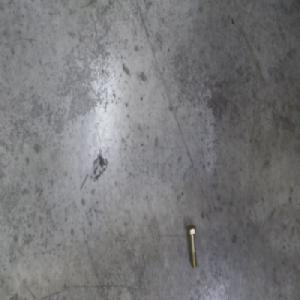Bolt: (186, 223, 198, 269)
